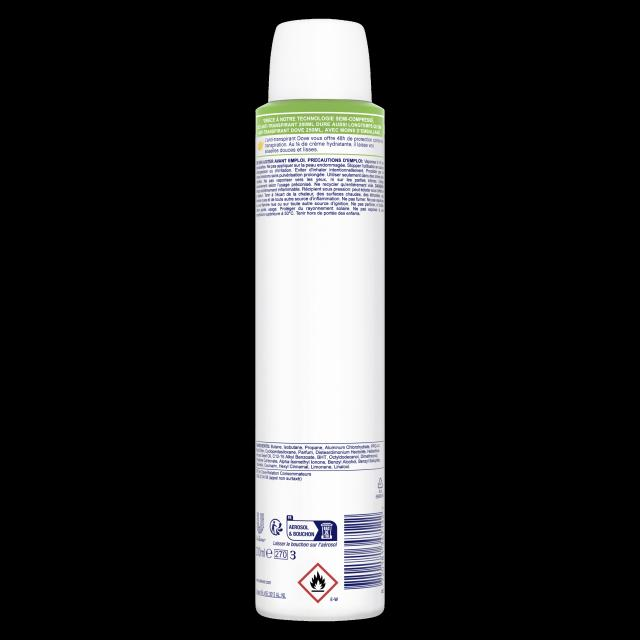GHS_Symbol_FLAME: (298, 562, 338, 604)
